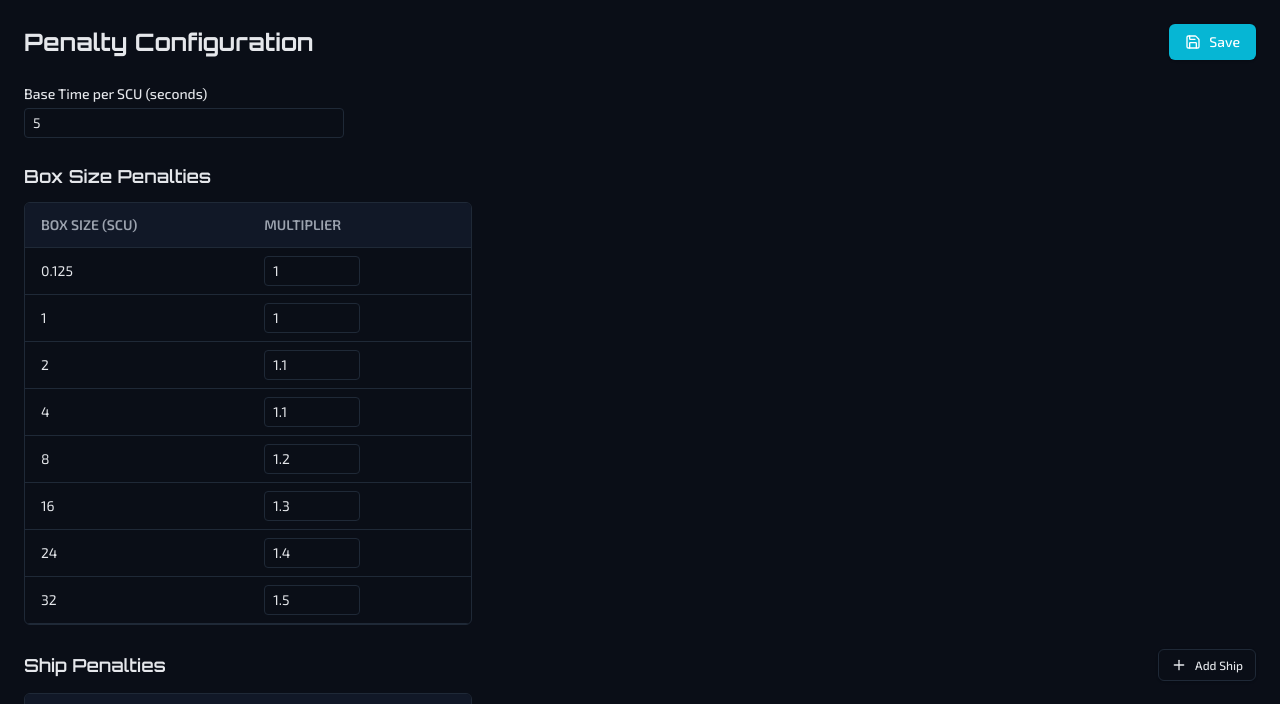
Scenario: PenaltyConfigPage › shows error toast on save failure
Expected: the heading "Penalty Configuration" is shown, [24, 26, 313, 58]
Click the button "Save": point(1213, 42) [1169, 24, 1256, 60]
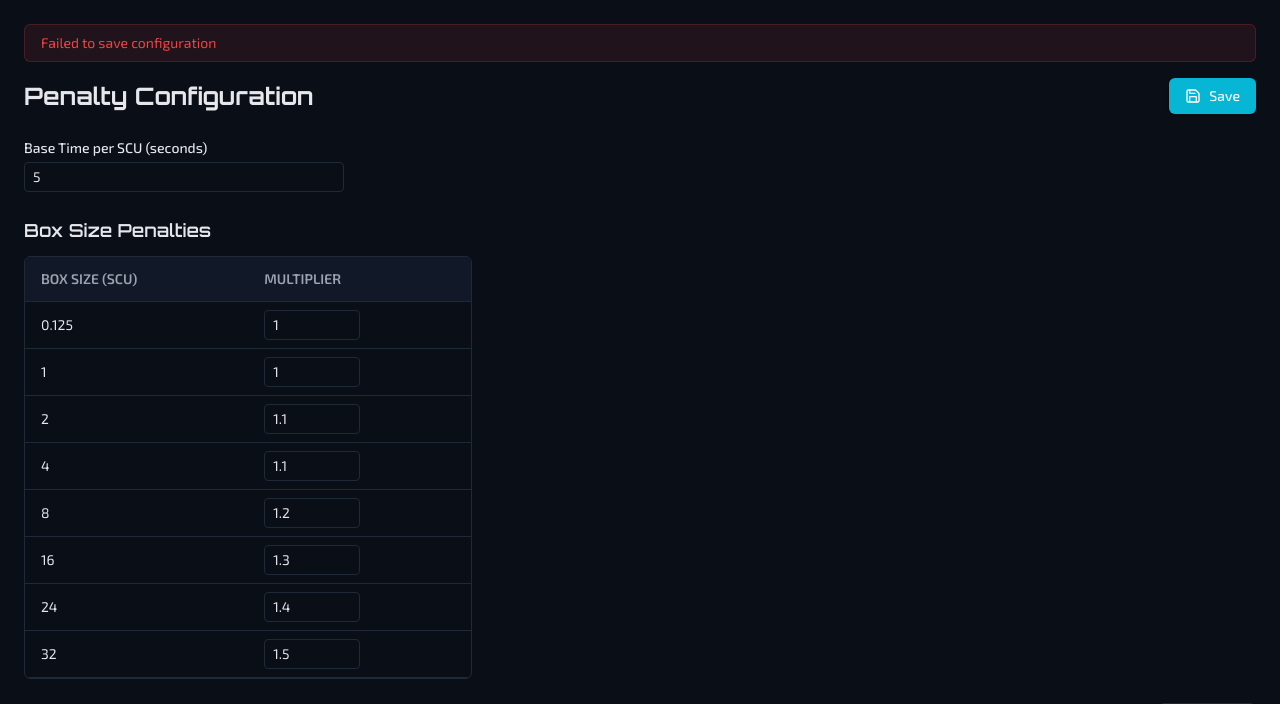
Expected: the text "Failed to save configuration" is shown, [24, 24, 1256, 62]
